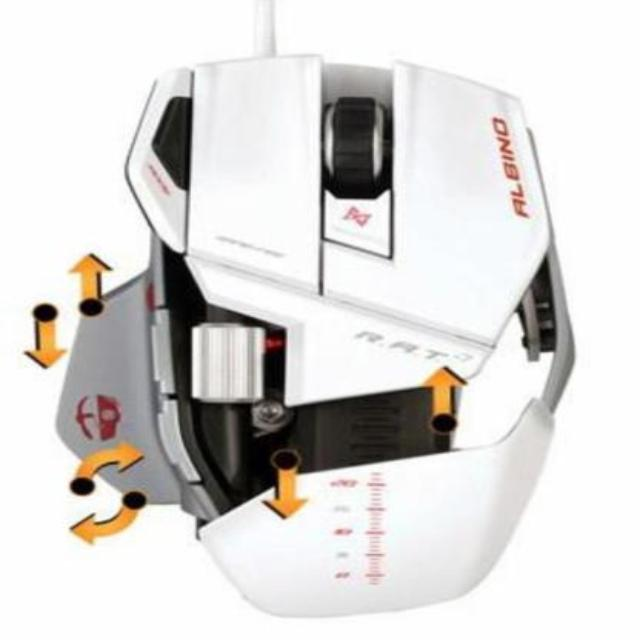Computer-Mouse: (59, 30, 511, 624)
